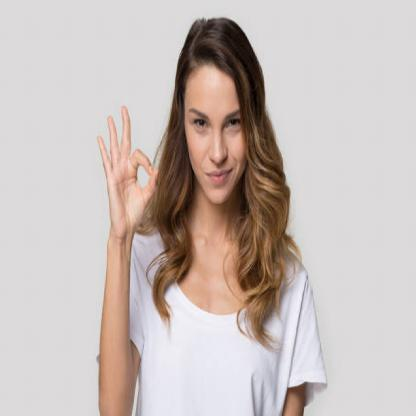ok: (95, 103, 161, 240)
